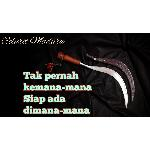Celurit: (53, 41, 143, 115)
